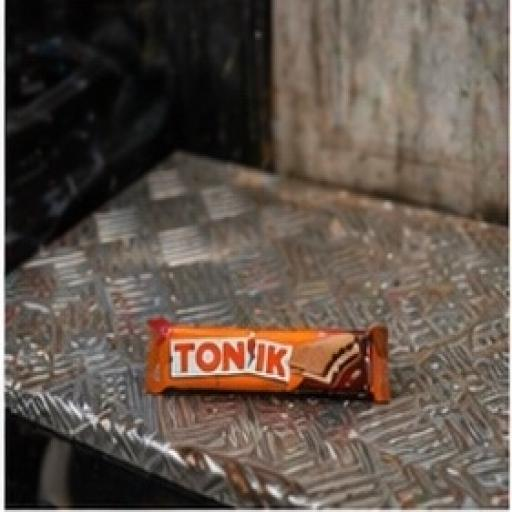tonik: (107, 249, 436, 473)
